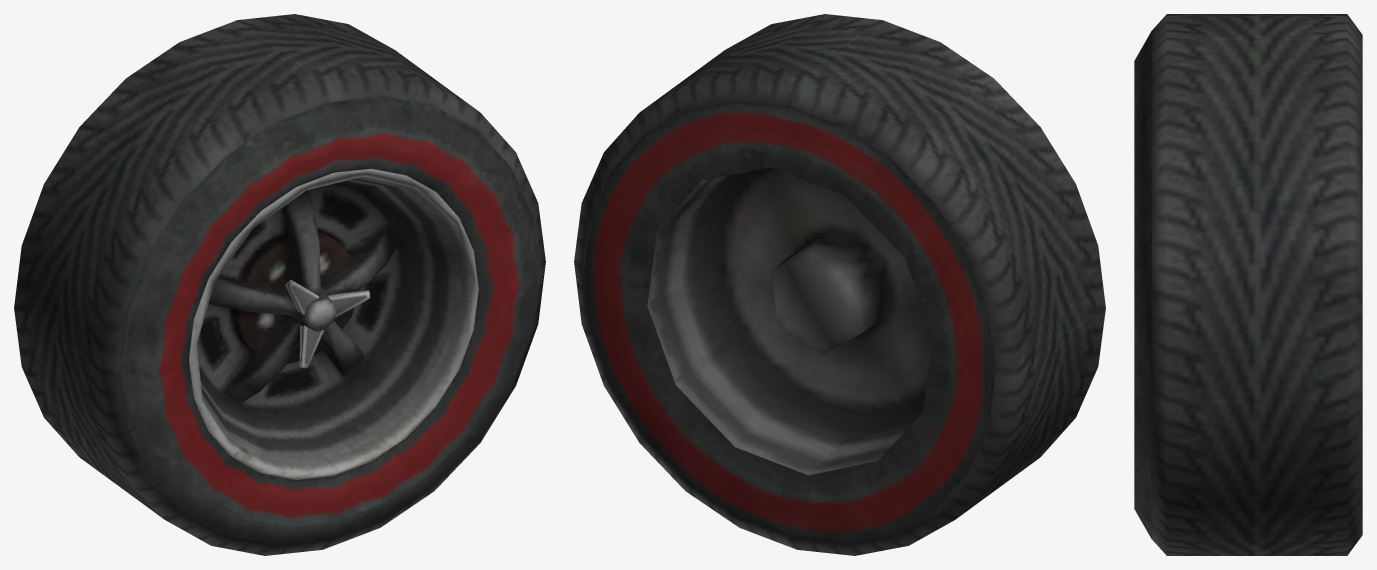
The model's file is V_A_ClassicMuscle_Wheels_11_SkeletalMesh3_SkeletalMesh_22.psk.glb.
The picture shows the model from 3 angles, left to right: view 1: azimuth 30°, elevation 25°; view 2: azimuth 150°, elevation 25°; view 3: azimuth 270°, elevation 25°; orthographic projection. The views are drawn at different scales.
Size of the model in its own units: 67.92 by 67.92 by 28.52.
1 material, 1 textured.
